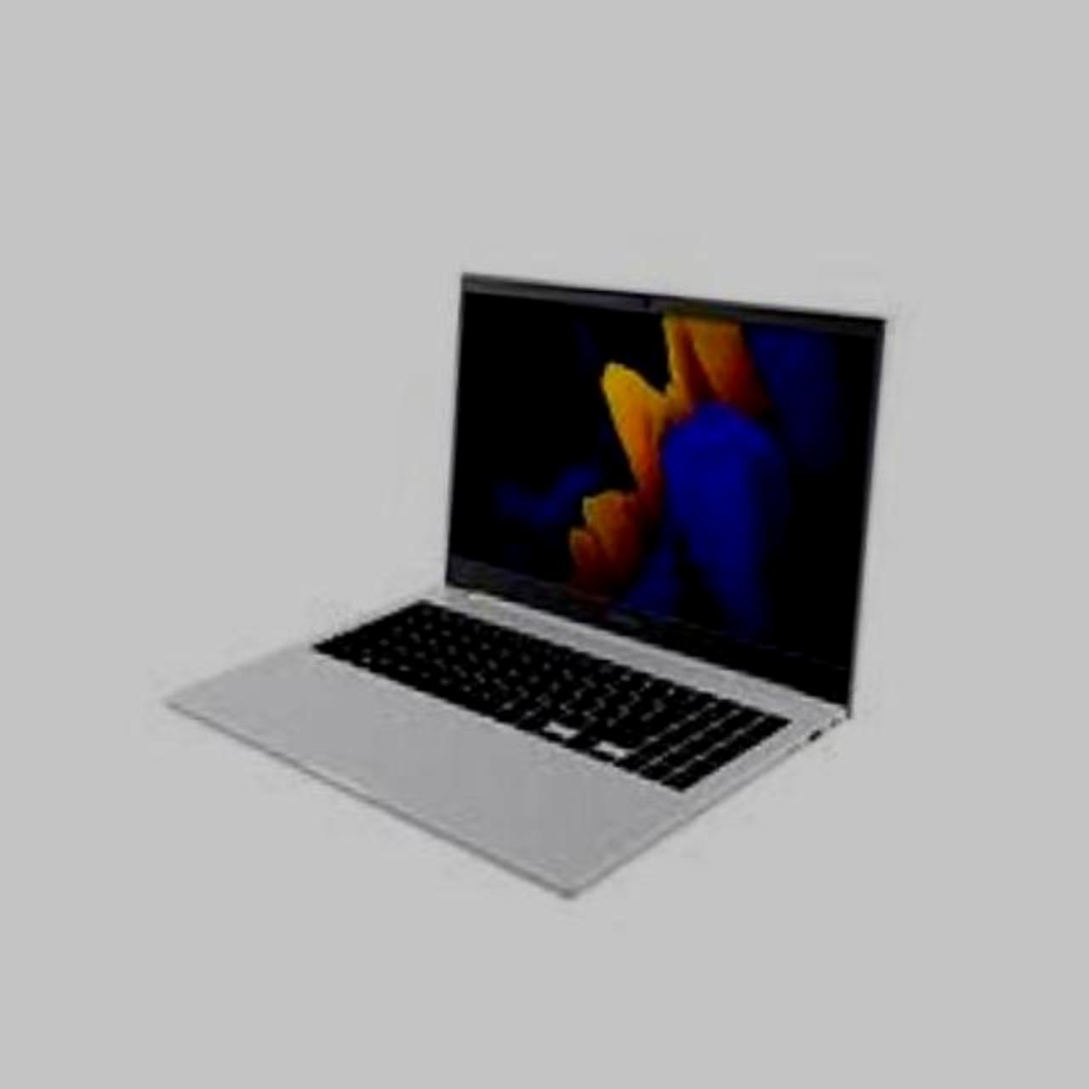laptop: (139, 234, 944, 930)
